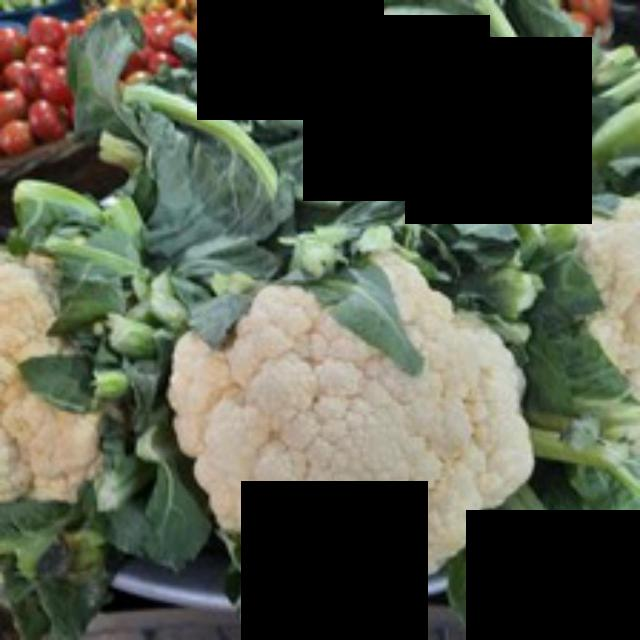cauliflower: (162, 240, 536, 612)
